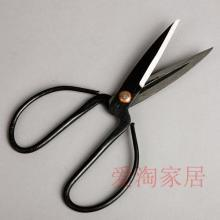scissor: (6, 12, 214, 213)
